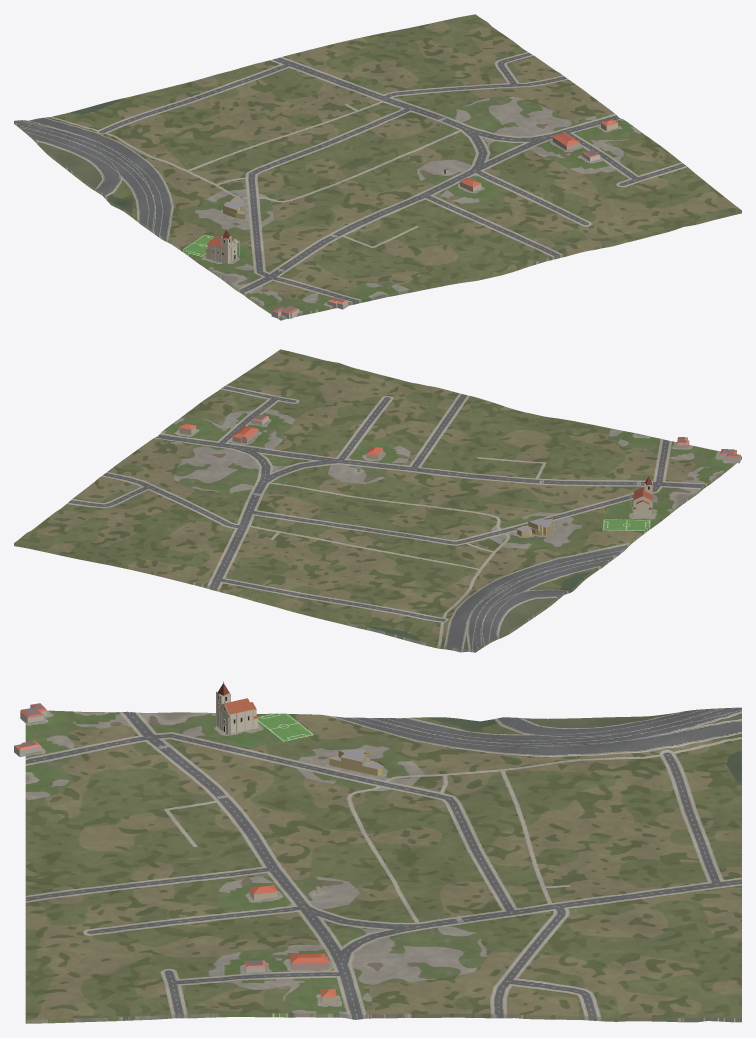
The picture shows the model from 3 angles, top to bottom: view 1: azimuth 30°, elevation 25°; view 2: azimuth 150°, elevation 25°; view 3: azimuth 270°, elevation 25°; orthographic projection. The views are drawn at different scales.
Visible parts, largest first — view 1: terrain, buildings; view 2: terrain, buildings; view 3: terrain, buildings.
Part boxes in pixels (x1,y1,x2,y2): terrain: (14,14,741,320); buildings: (206,119,617,318); terrain: (14,349,741,652); buildings: (179,414,740,536); terrain: (25,707,741,1023); buildings: (14,681,383,1004).
Bounding box in the file's own units: 504 × 43.97 × 508.
Materials: 2 (1 with a texture image).
